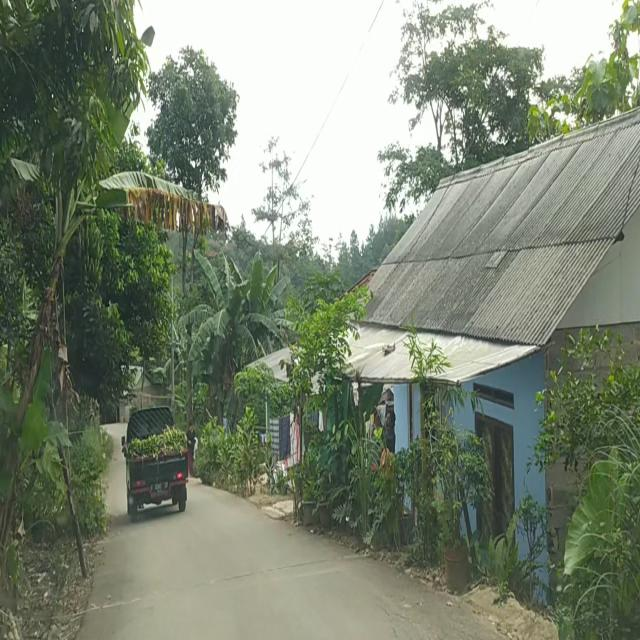Sewer Cover: (228, 558, 342, 582)
